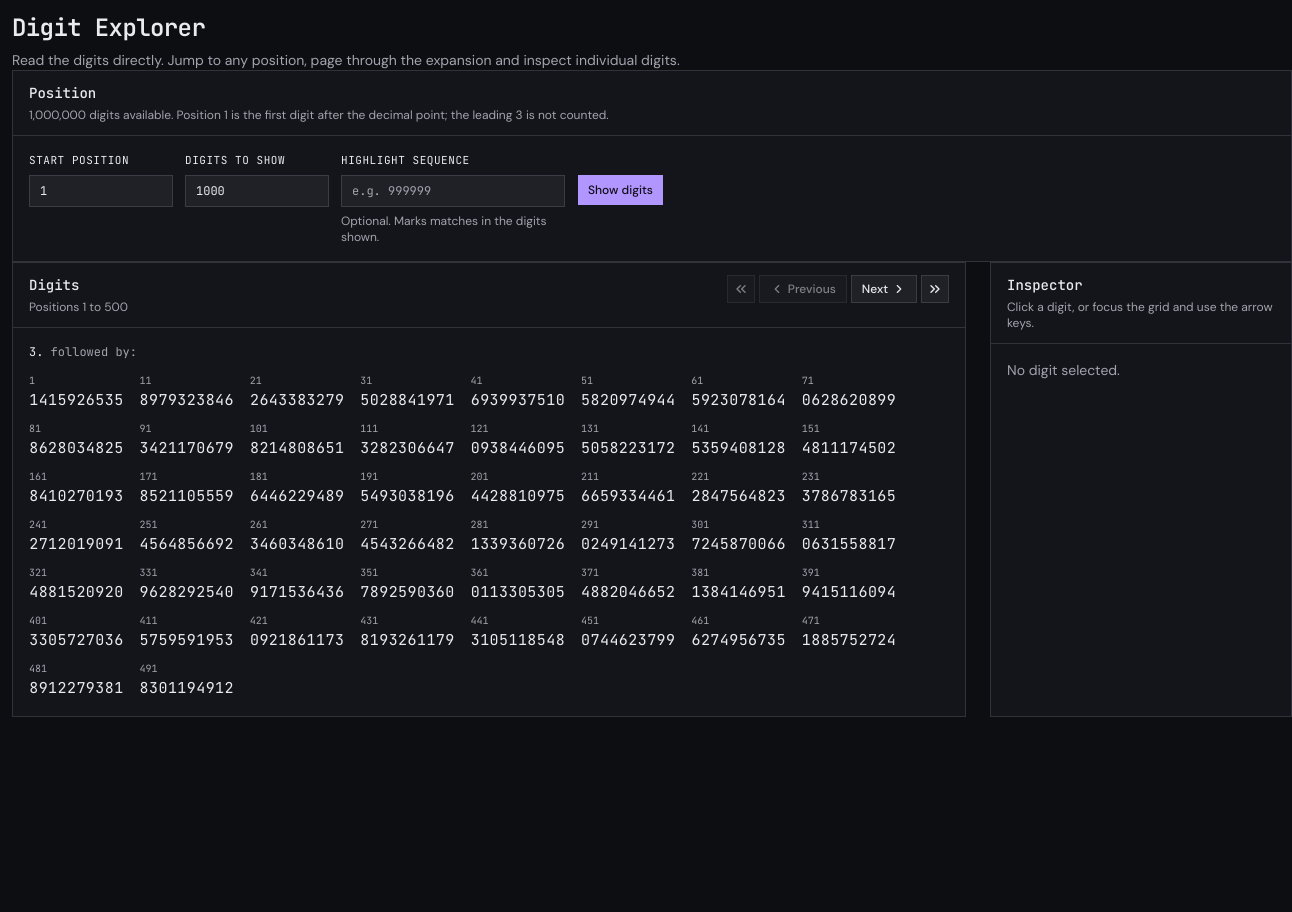
Test: ExplorerView › refuses to request more digits than the server allows
This screenshot has width=1292, height=912.
Replace the text in the field labelled "Digits to show" with "50000" at (257, 190), box [185,174,329,206]
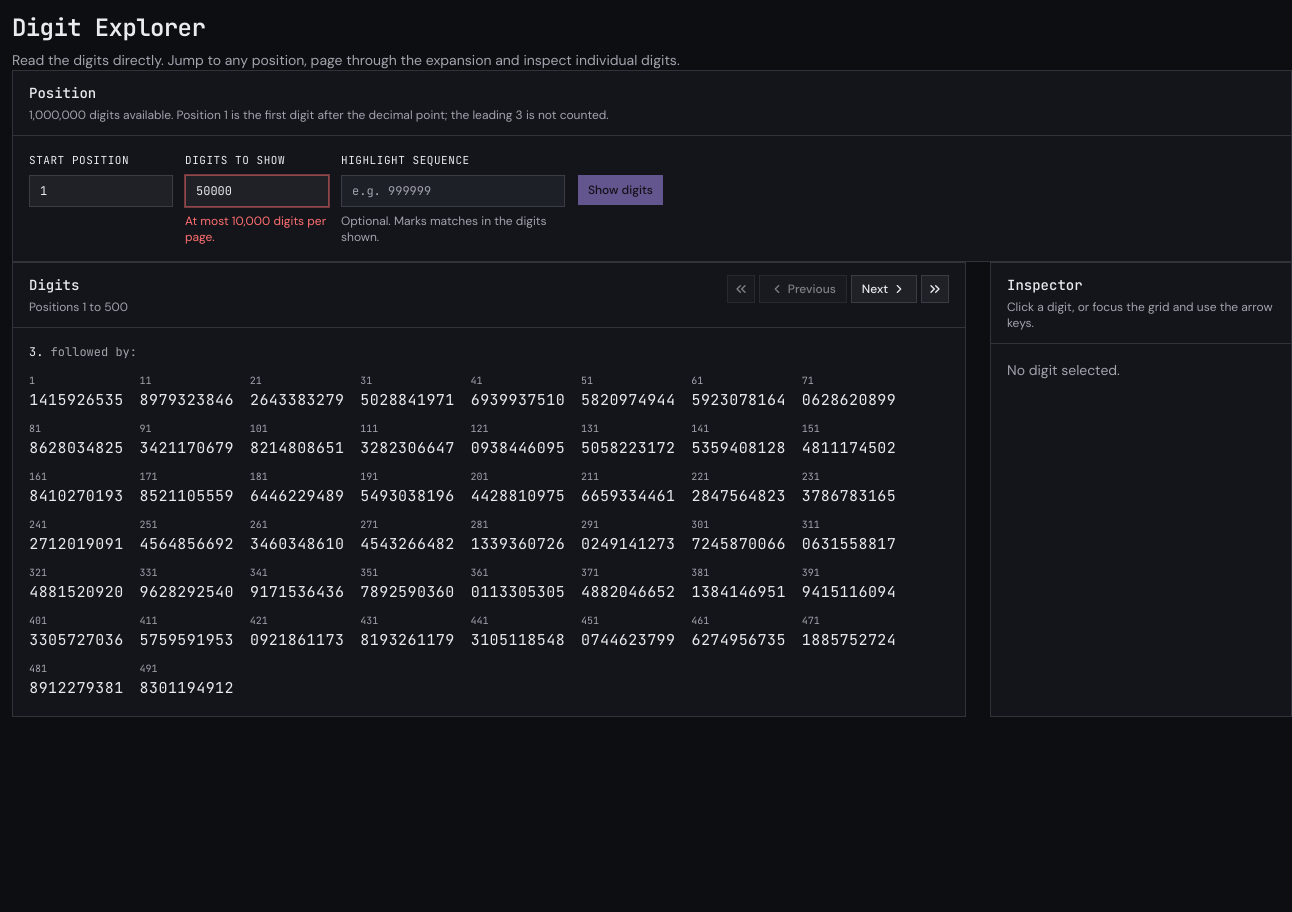
Expected: the button "Show digits" is disabled, [577,174,664,206]
Expected: the message reads "At most 10,000 digits per page.", [185,212,326,244]
